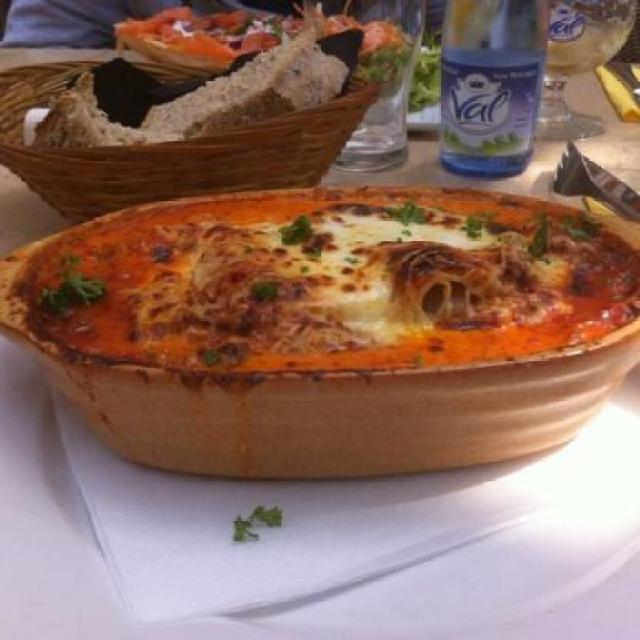Lasagna: (79, 198, 598, 346)
